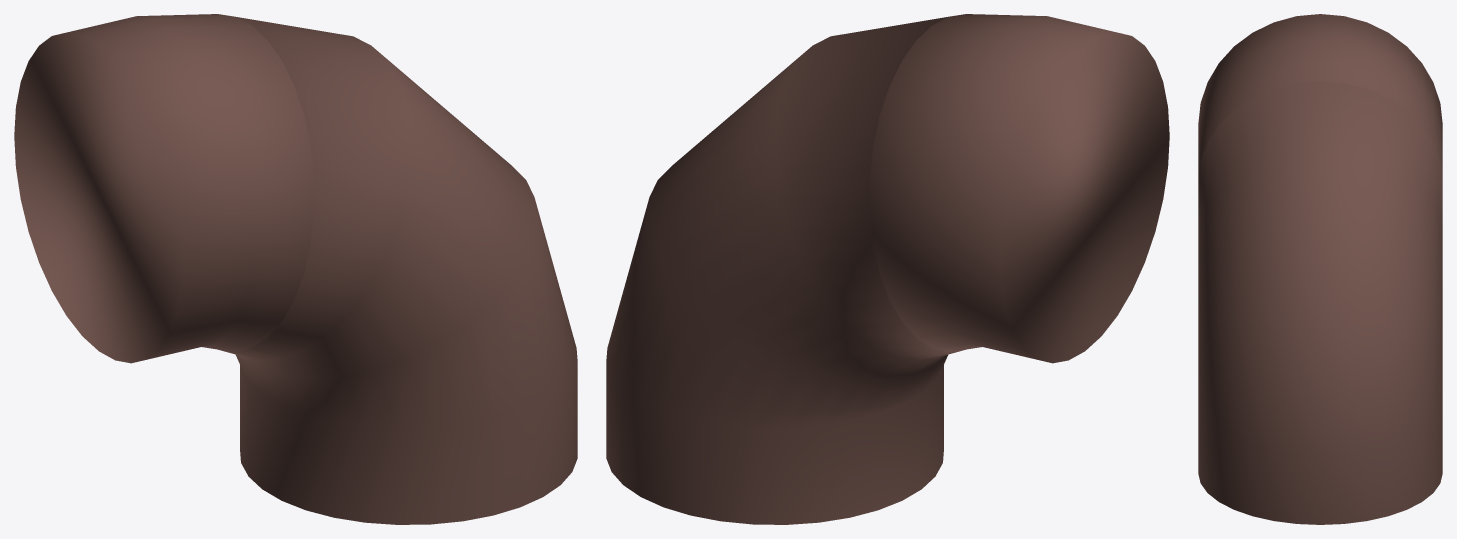
Rendered from elbow_pipe01.glb.
The picture shows the model from 3 angles, left to right: view 1: azimuth 30°, elevation 25°; view 2: azimuth 150°, elevation 25°; view 3: azimuth 270°, elevation 25°; orthographic projection. The views are drawn at different scales.
Visible parts, largest first — view 1: ElbowPipe-col; view 2: ElbowPipe-col; view 3: ElbowPipe-col.
Part boxes in pixels (x1,y1,x2,y2): ElbowPipe-col: [14, 14, 577, 524]; ElbowPipe-col: [606, 14, 1169, 524]; ElbowPipe-col: [1198, 14, 1442, 524].
Size of the model in its own units: 39.77 by 40.35 by 25.54.
